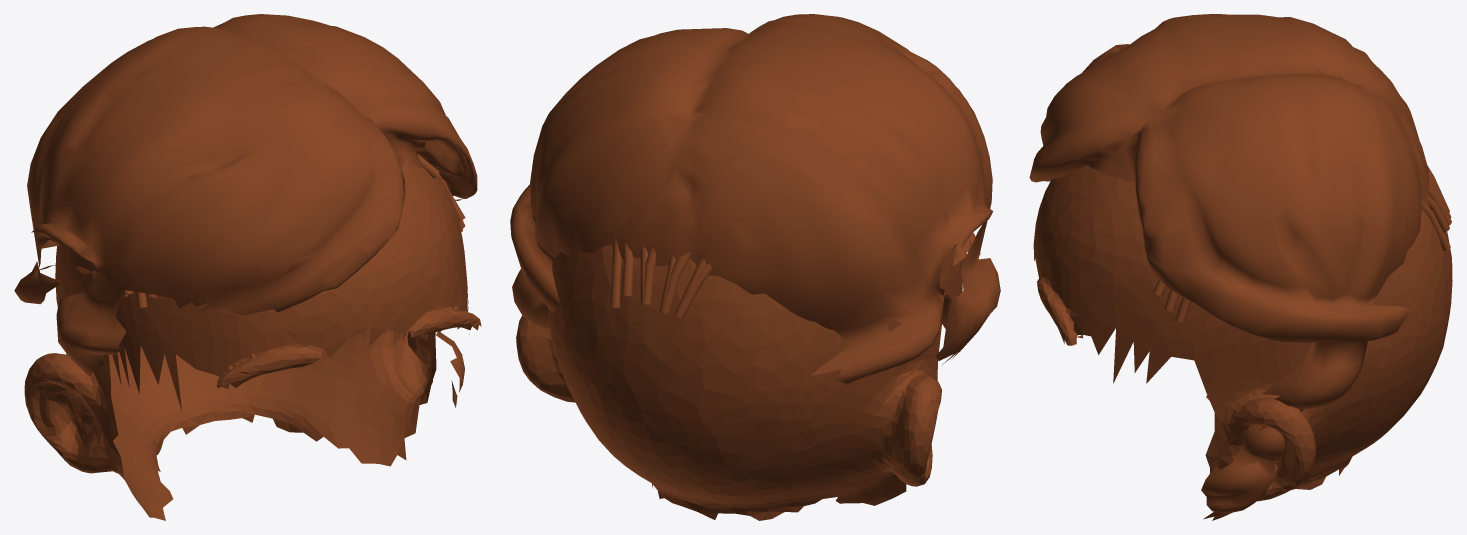
Rendered from braid.glb.
3 renders of one model, left to right at view 1: azimuth 30°, elevation 25°; view 2: azimuth 150°, elevation 25°; view 3: azimuth 270°, elevation 25°, orthographic. The views are drawn at different scales.
Visible parts, largest first — view 1: Hair, HairScalp, HairPulledRootStrands; view 2: Hair, HairScalp, HairPulledRootStrands; view 3: Hair, HairScalp, HairPulledRootStrands.
Boxes of the visible parts, x1,y1,x2,y2 form: Hair: (14,14,477,407); HairScalp: (24,159,481,520); HairPulledRootStrands: (123,154,465,307); Hair: (510,14,1000,385); HairScalp: (516,232,980,520); HairPulledRootStrands: (610,237,955,318); Hair: (1029,14,1429,513); HairScalp: (1033,165,1452,520); HairPulledRootStrands: (1153,165,1451,322).
Size of the model in its own units: 0.488 by 0.4905 by 0.4469.
